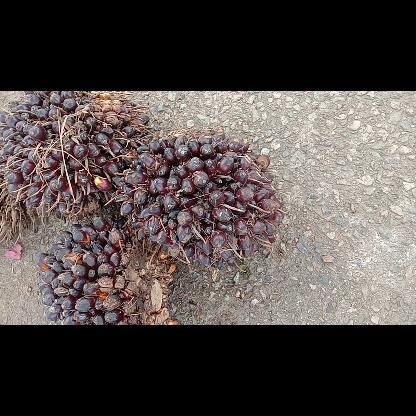TBS mentah: (116, 128, 284, 268), (0, 90, 147, 216), (35, 216, 178, 324)
